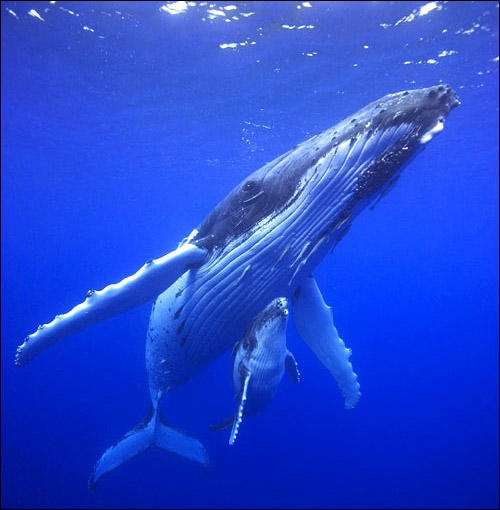humpback: (90, 82, 460, 488)
